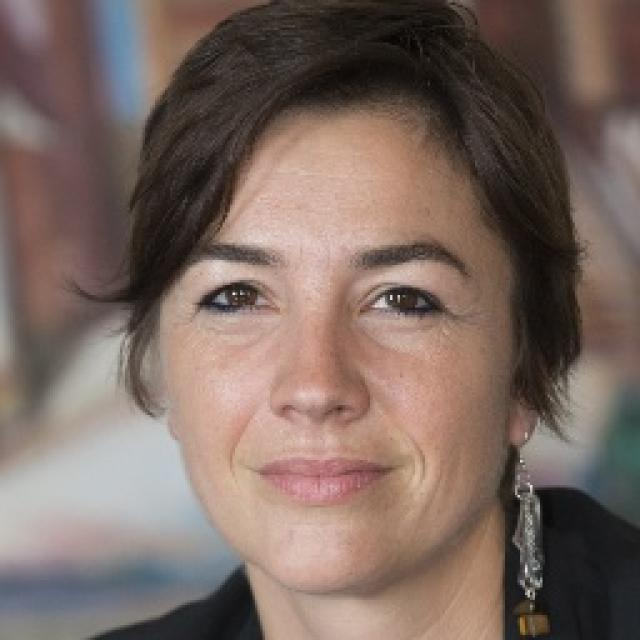earlobe: (507, 316, 559, 448)
